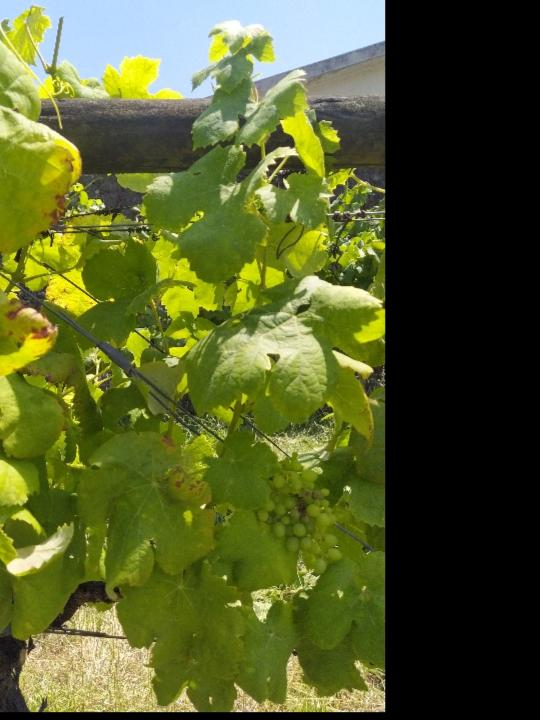grape: (255, 457, 345, 576)
